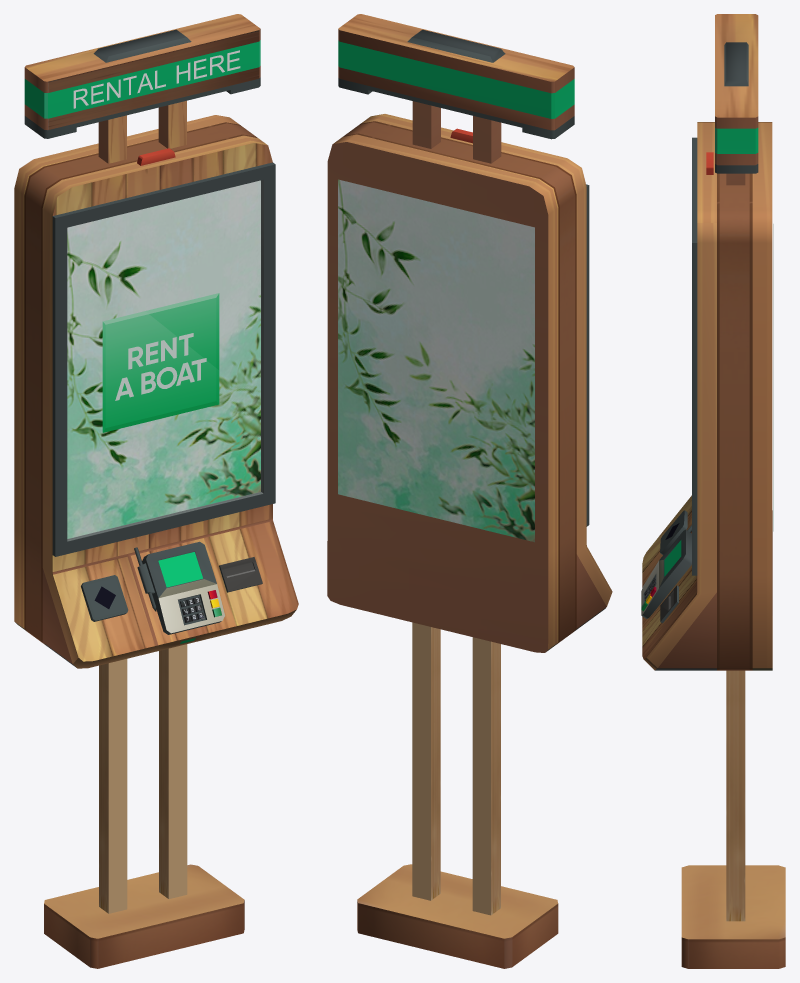
File: VE_Kiosk_013.FBX
3 renders of one model, left to right at view 1: azimuth 30°, elevation 25°; view 2: azimuth 150°, elevation 25°; view 3: azimuth 270°, elevation 25°, orthographic. The views are drawn at different scales.
Visible parts, largest first — view 1: VE_Kiosk_013, VE_Kiosk_013_unlit; view 2: VE_Kiosk_013, VE_Kiosk_013_unlit; view 3: VE_Kiosk_013, VE_Kiosk_013_unlit.
Part boxes in pixels (x1=…): VE_Kiosk_013: x1=14, y1=14, x2=298, y2=968; VE_Kiosk_013_unlit: x1=24, y1=40, x2=260, y2=643; VE_Kiosk_013: x1=327, y1=14, x2=612, y2=968; VE_Kiosk_013_unlit: x1=338, y1=40, x2=574, y2=542; VE_Kiosk_013: x1=641, y1=14, x2=785, y2=968; VE_Kiosk_013_unlit: x1=664, y1=128, x2=773, y2=576.
Bounding box in the file's own units: 48.63 × 187 × 28.09.
